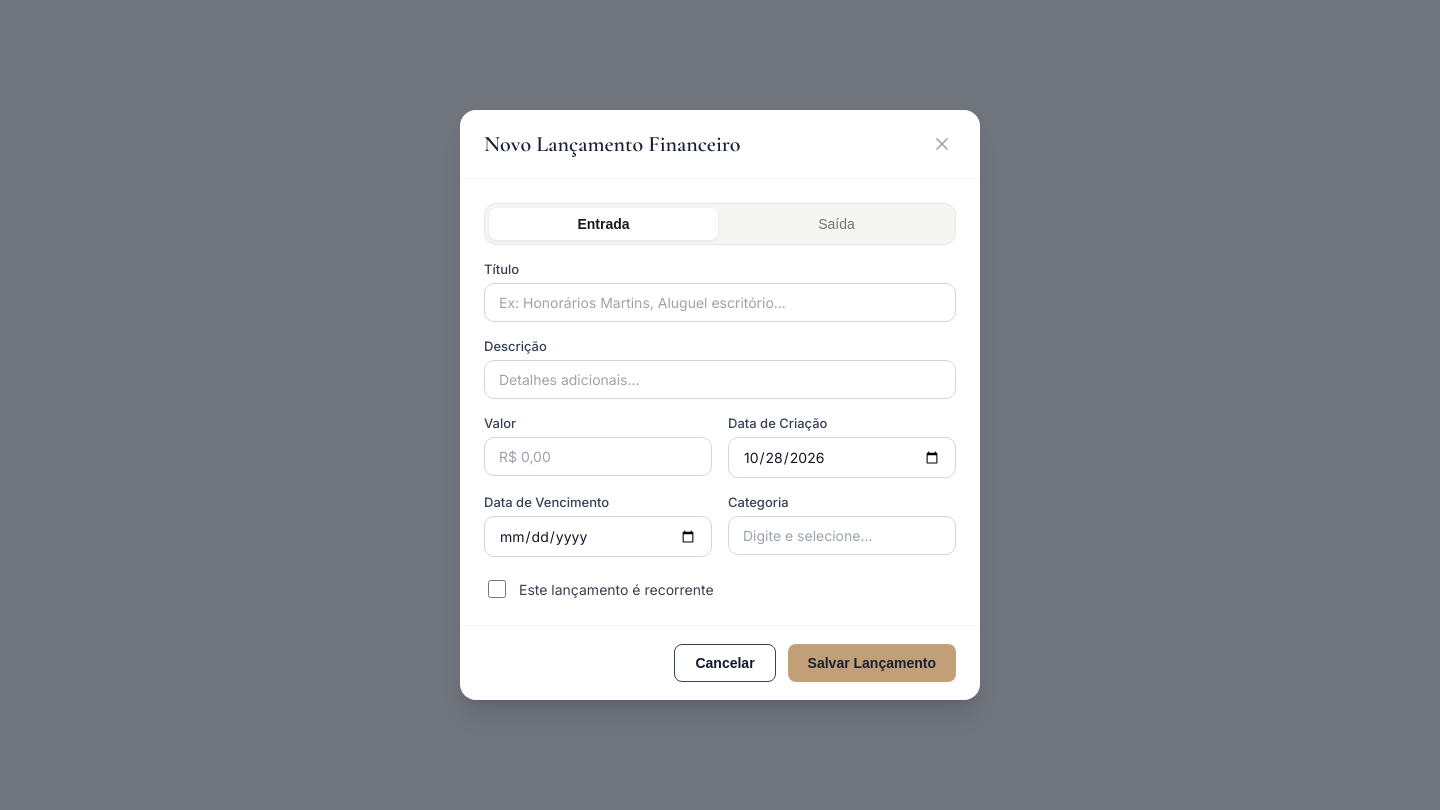
Test: LancamentoModal › valida campos obrigatórios ao submeter com valor igual a zero
The width and height of the screenshot is (1440, 810).
Type "Honorários" into the field labelled "Título" at (720, 302), box left=484, top=283, right=956, bottom=322
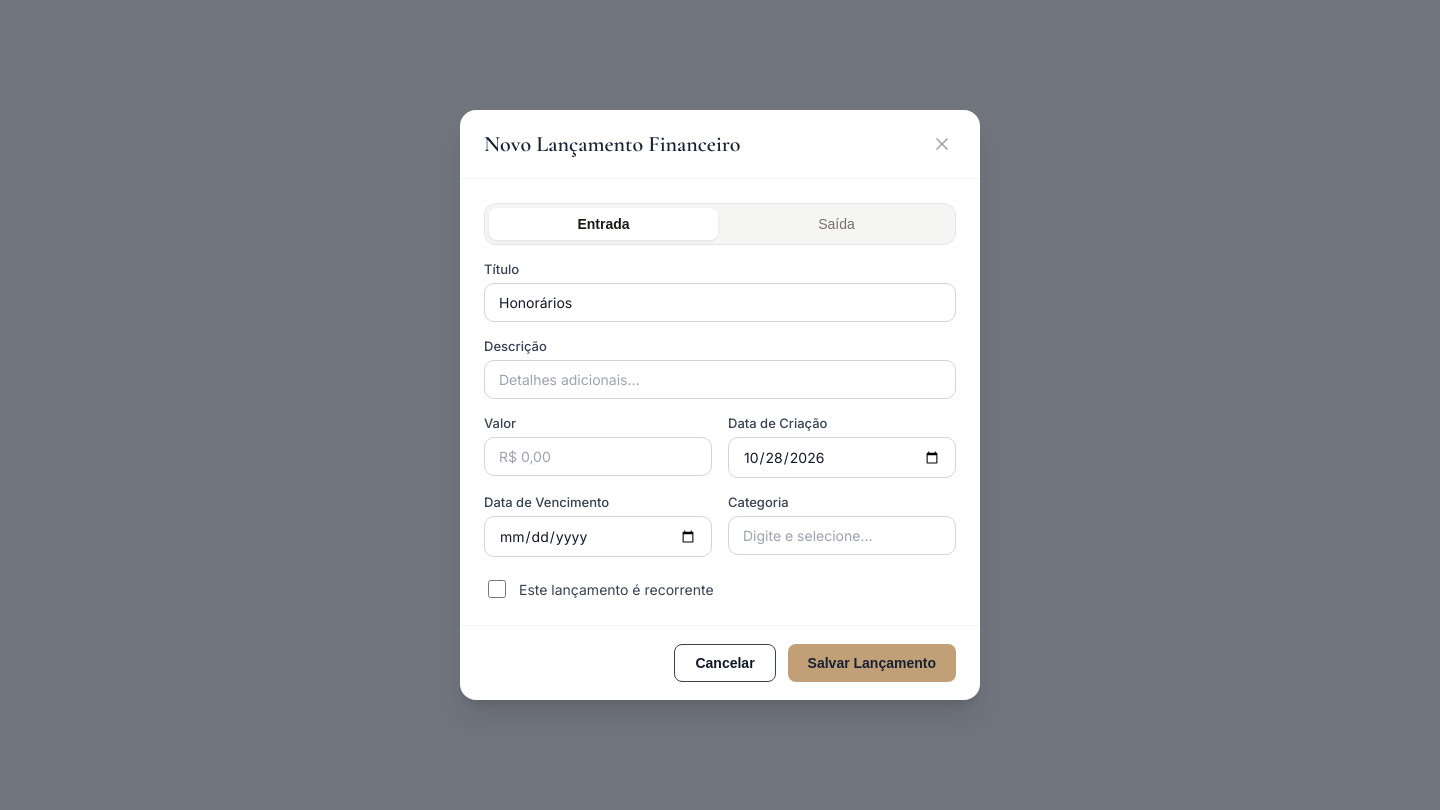
Type "0" into the field labelled "Valor" at (598, 456), box left=484, top=437, right=712, bottom=476
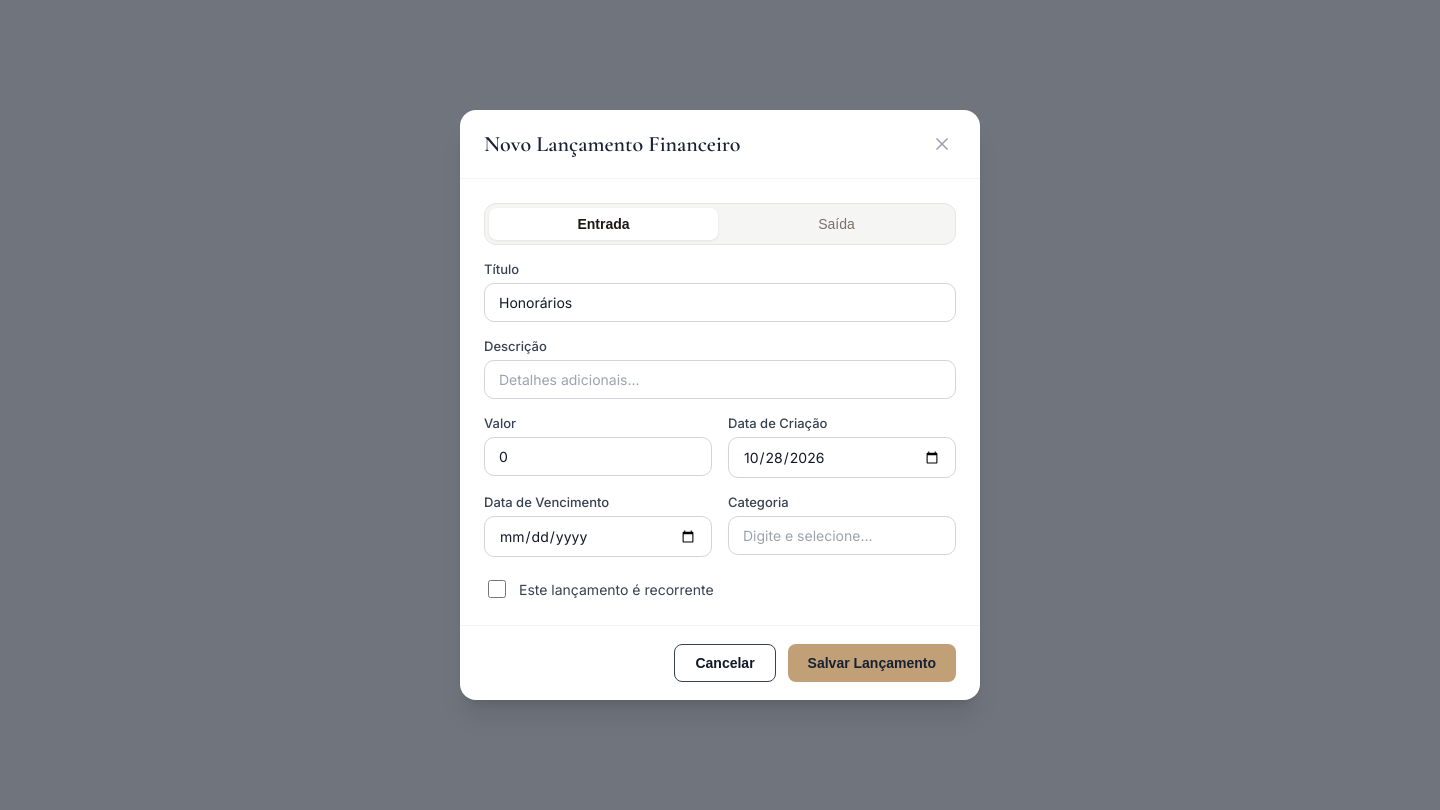
Submit the form from the button "Salvar Lançamento", box left=788, top=644, right=956, bottom=682
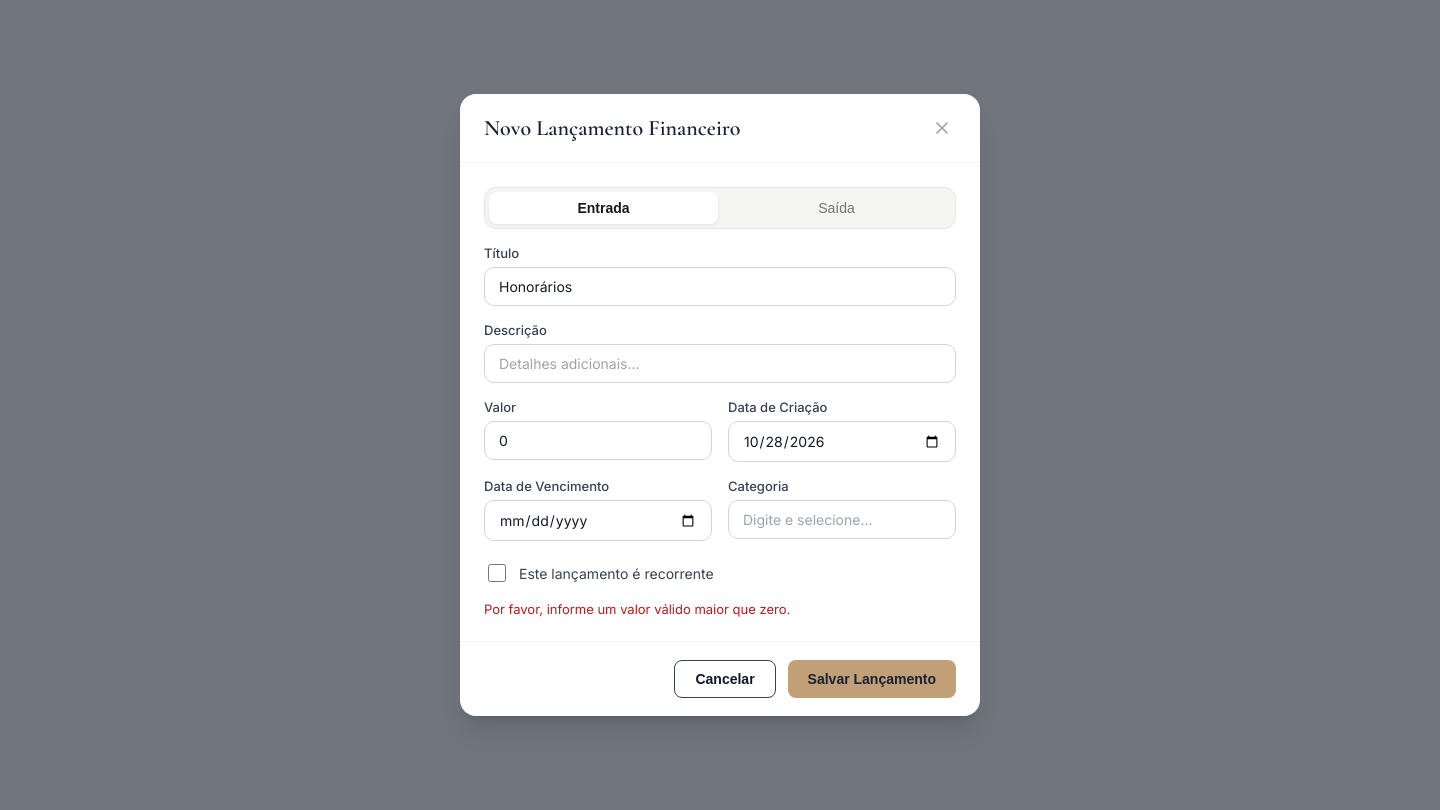
Result: the text "Por favor, informe um valor válido maior que zero." is shown at left=484, top=601, right=790, bottom=617
